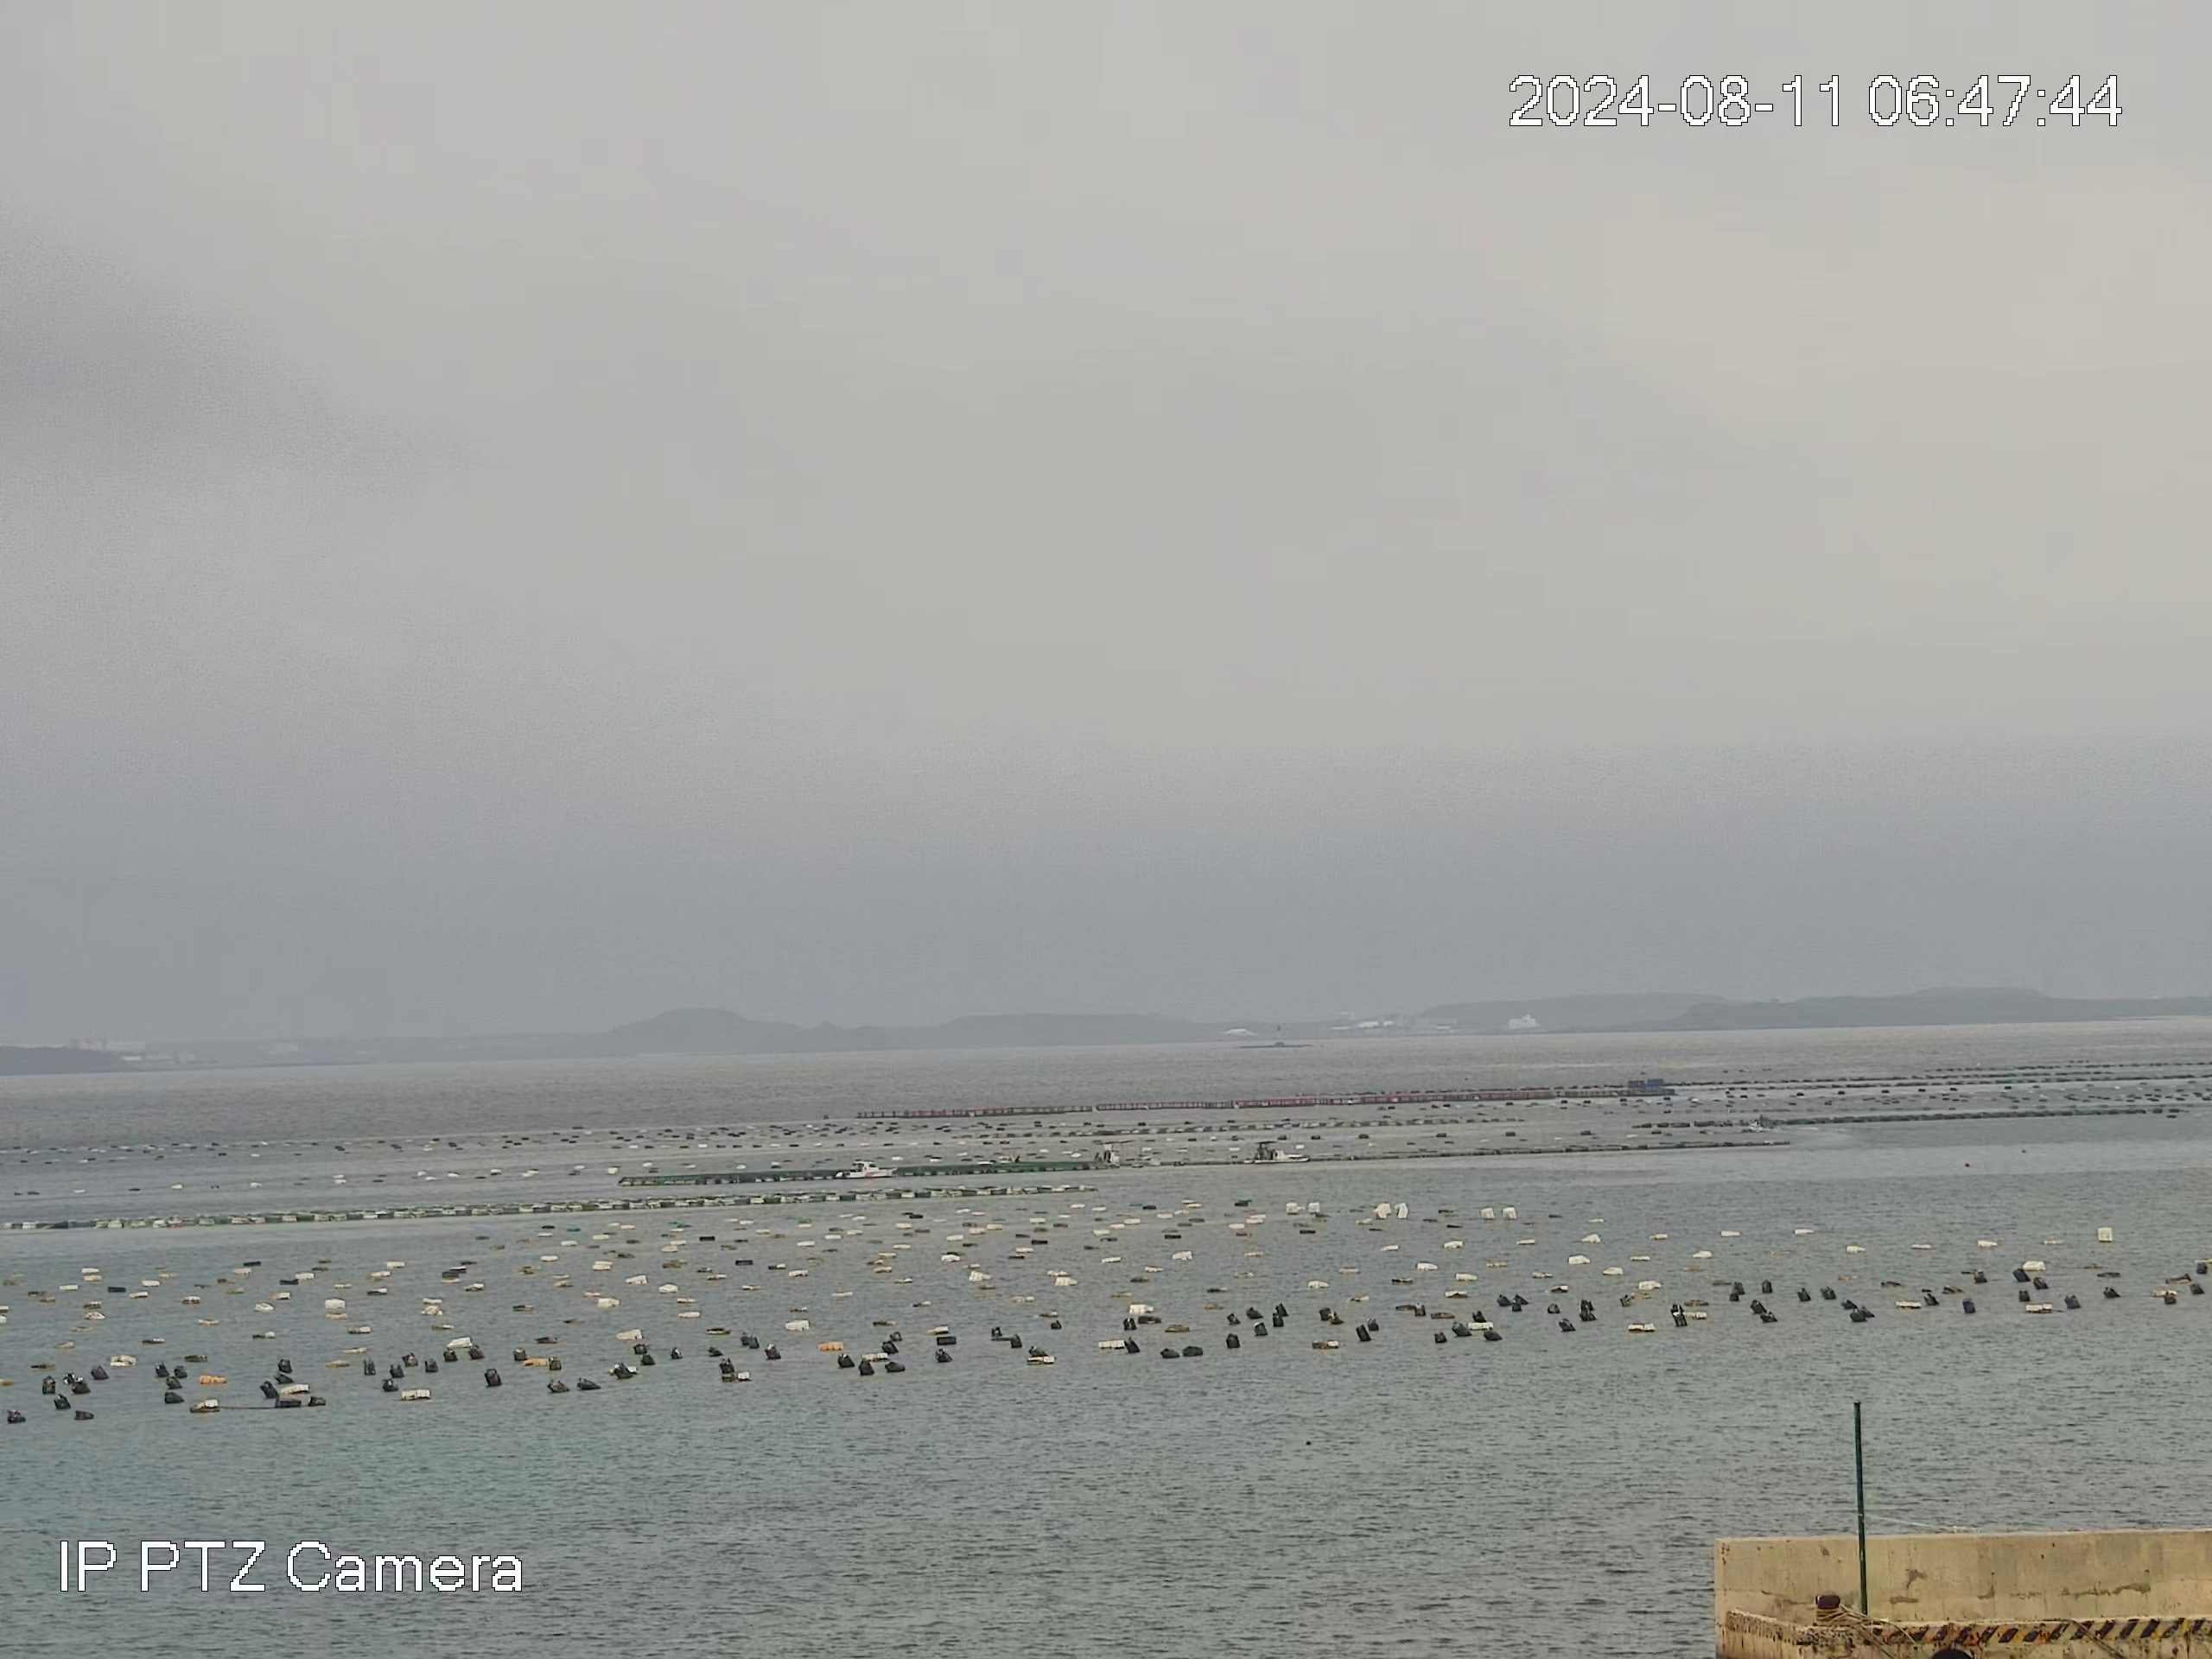boat: (1247, 1138, 1310, 1164), (833, 1157, 897, 1180)
